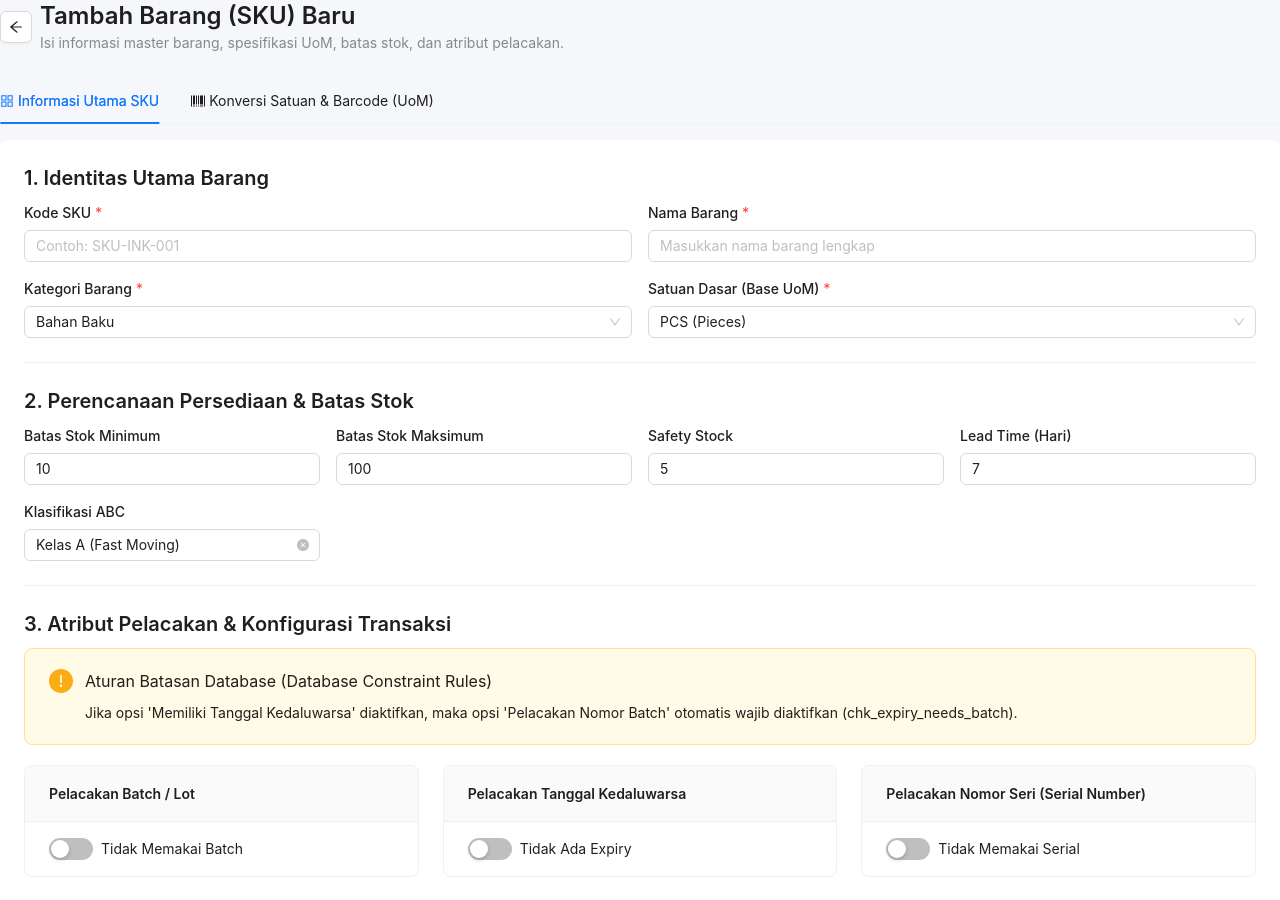
ItemFormPage Component › renders SKU creation form fields and submits valid form data
The image size is (1280, 900).
Expected: the field with test id "input-name" is shown, [648,230,1256,262]
In the field with test id "input-sku": (328, 246) [24,230,632,262], type "SKU-NEW-999"
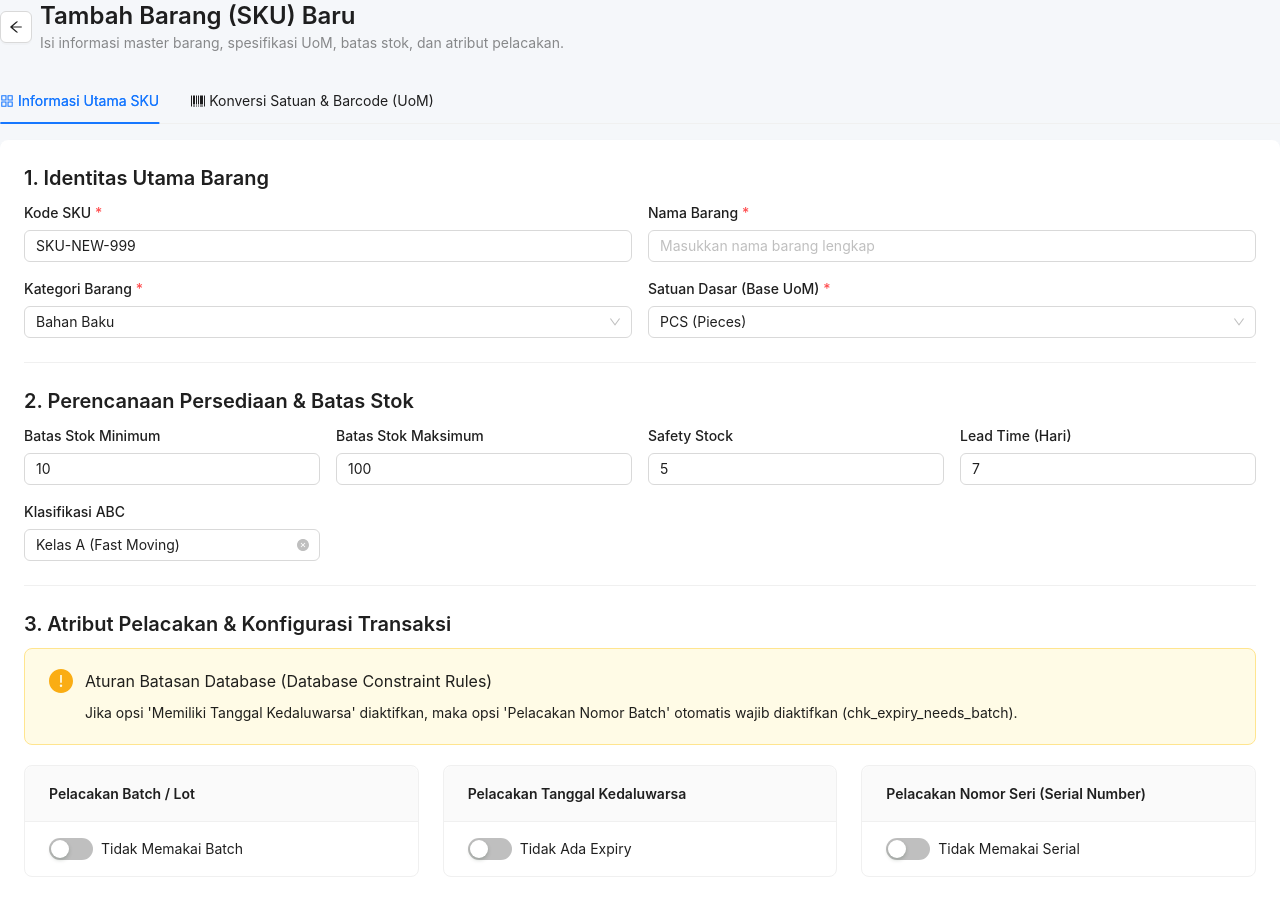
In the field with test id "input-name": (952, 246) [648,230,1256,262], type "Kertas Uang Baru 100GSM"
(page scrolled)
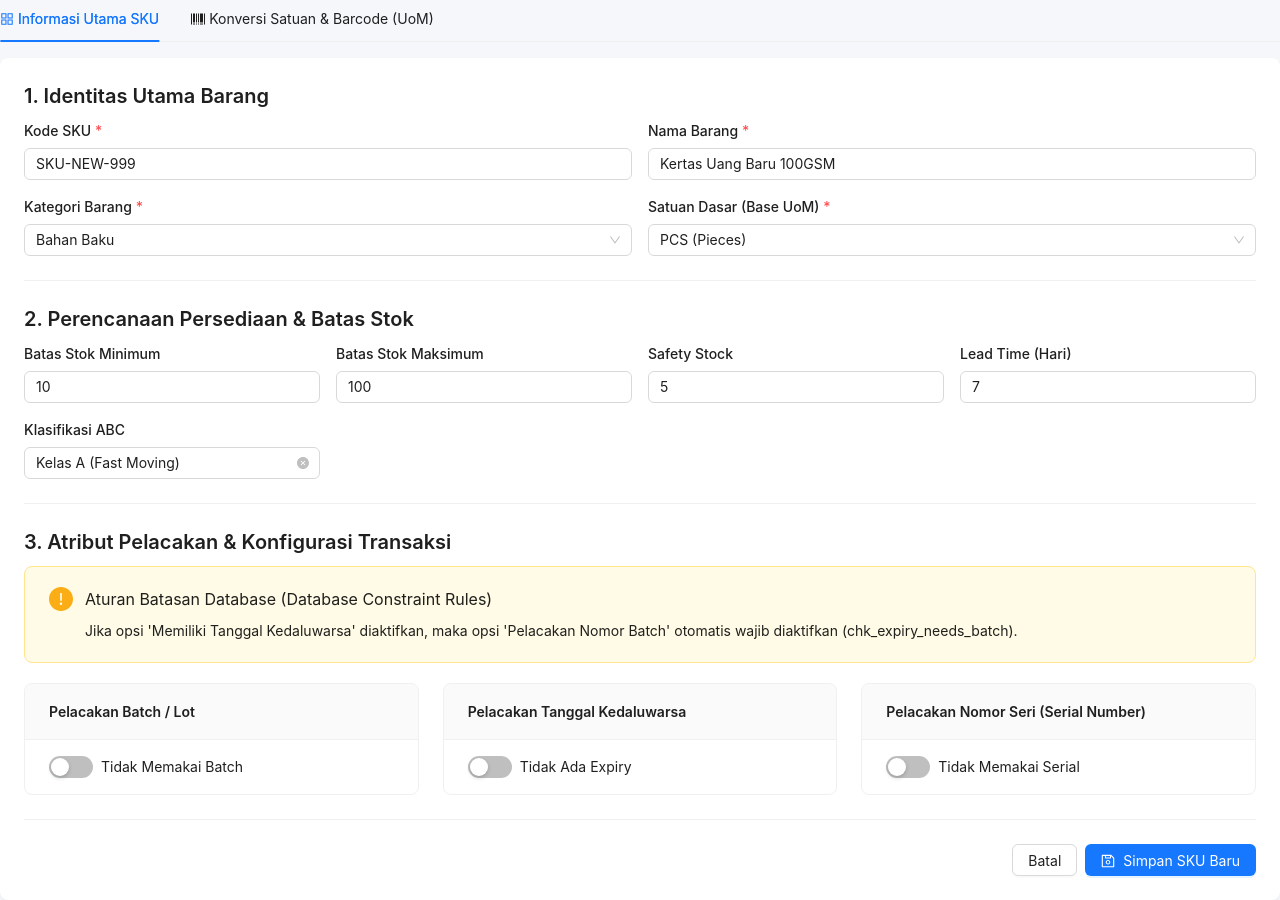
Click the button with test id "btn-submit-item-form": (1171, 860) [1085,844,1256,876]
(page scrolled)
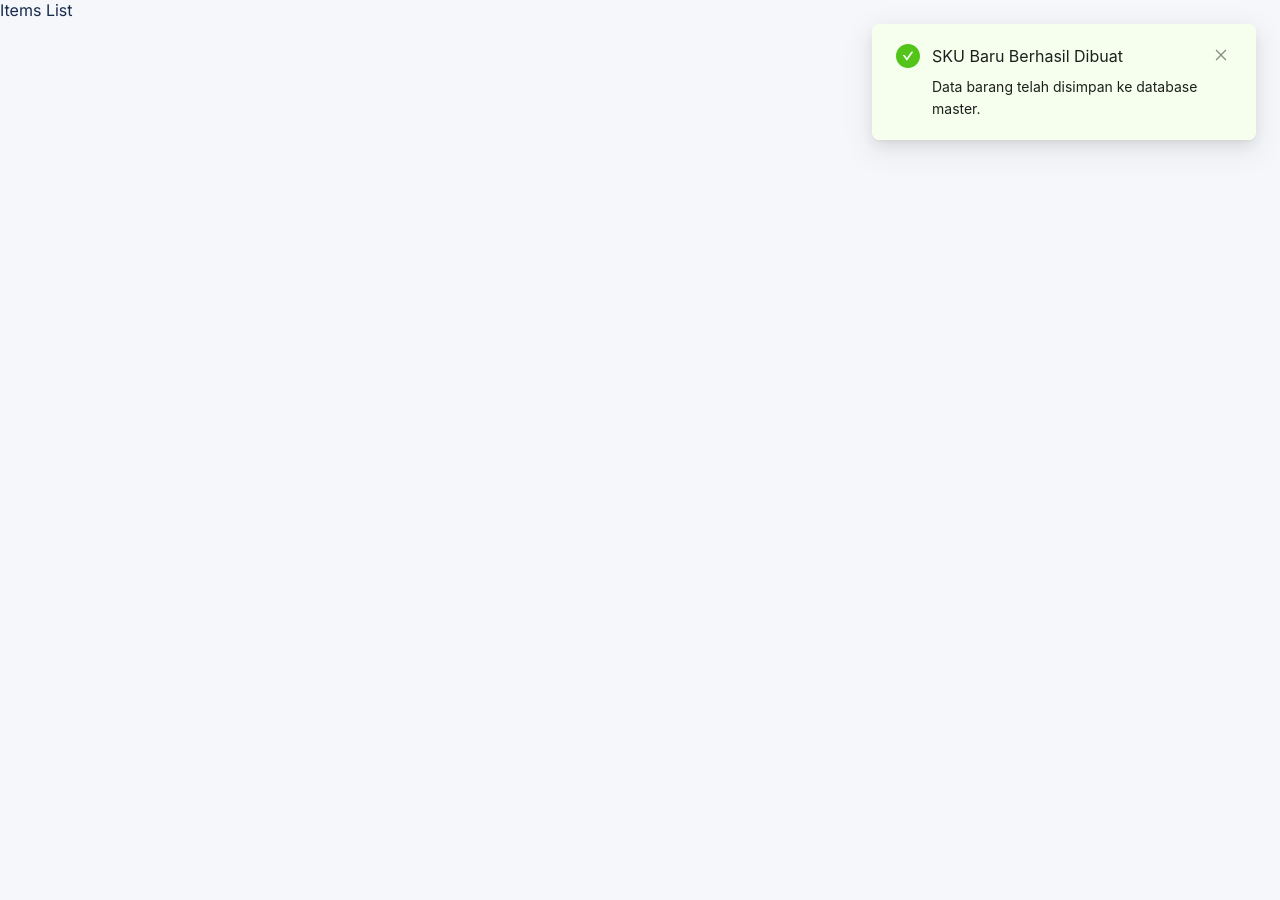
Expected: the text "Items List" is shown, [0,0,72,20]
